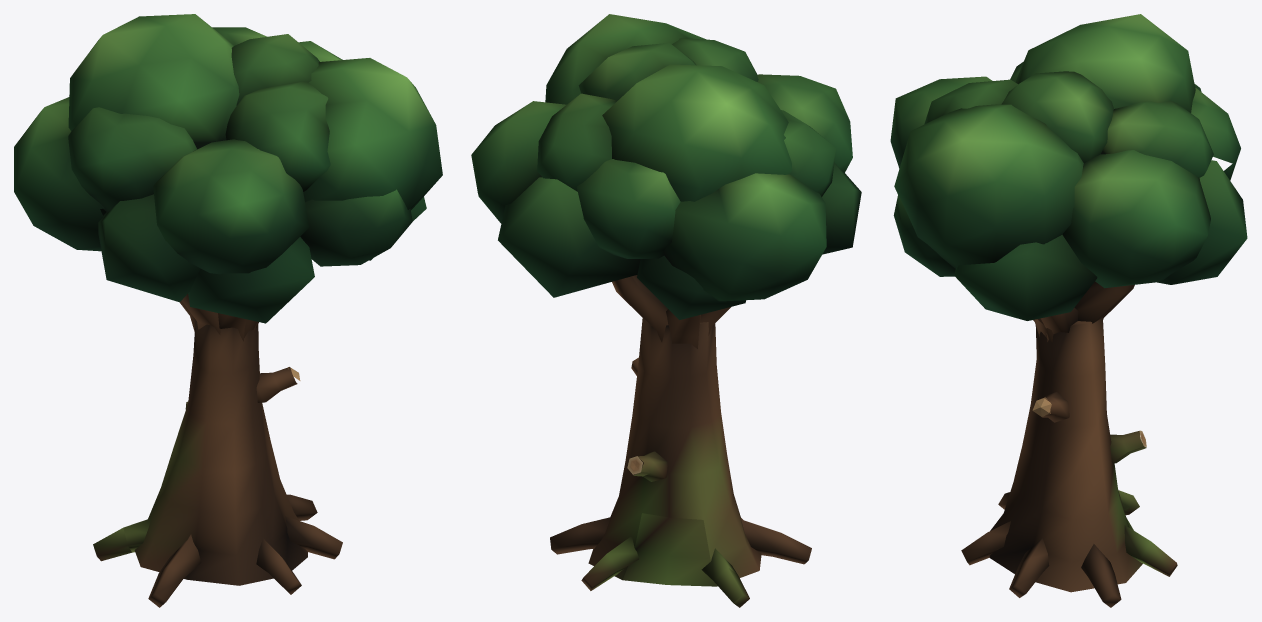
File: tree-big-low.glb
3 renders of one model, left to right at view 1: azimuth 30°, elevation 25°; view 2: azimuth 150°, elevation 25°; view 3: azimuth 270°, elevation 25°, orthographic. The views are drawn at different scales.
Parts seen in each view (by area): view 1: 1_leaves, 0_trunk; view 2: 1_leaves, 0_trunk; view 3: 1_leaves, 0_trunk.
Boxes of the visible parts, bbox=[...] form: 1_leaves: bbox=[14, 14, 442, 323]; 0_trunk: bbox=[93, 294, 342, 607]; 1_leaves: bbox=[471, 14, 861, 319]; 0_trunk: bbox=[550, 275, 811, 607]; 1_leaves: bbox=[890, 14, 1247, 320]; 0_trunk: bbox=[961, 281, 1177, 607].
Size of the model in its own units: 6.01 by 8.75 by 5.51.
